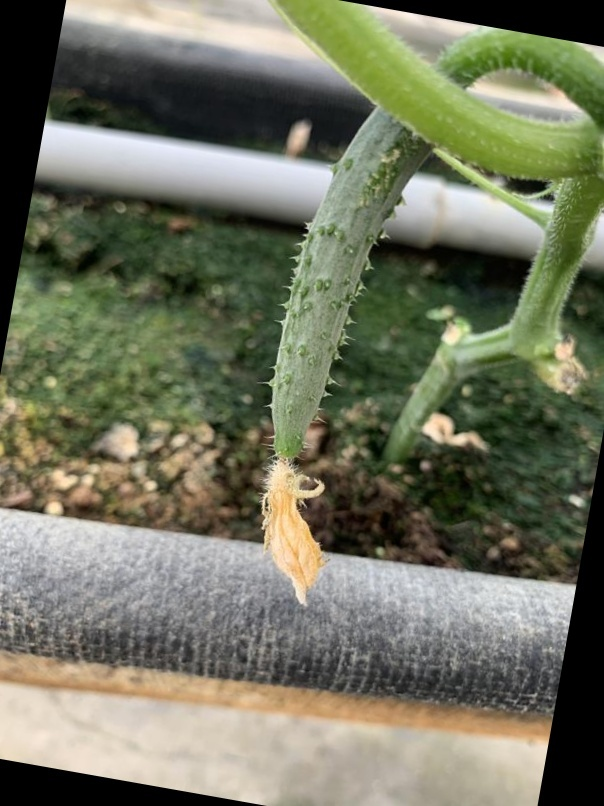bear: (209, 142, 410, 608)
